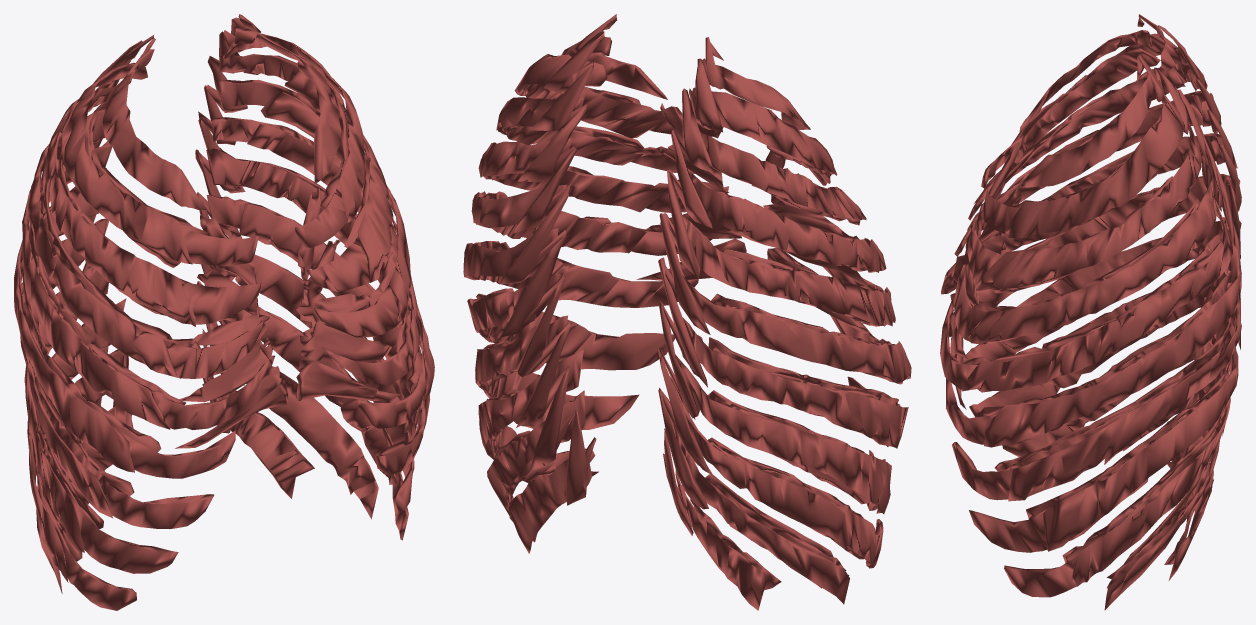
The model's file is thorax.glb.
3 views of the same model, side by side, from view 1: azimuth 30°, elevation 25°; view 2: azimuth 150°, elevation 25°; view 3: azimuth 270°, elevation 25° (orthographic). The views are drawn at different scales.
Parts seen in each view (by area): view 1: FMA9756, FMA9757, FMA9758, FMA9762, FMA9761, FMA74076, FMA74078, FMA74075; view 2: FMA9756, FMA9758, FMA74076, FMA9757, FMA74075, FMA9762, FMA9761, FMA74078, FMA74077; view 3: FMA9756, FMA9758, FMA9757, FMA74076, FMA74075, FMA9762, FMA9761, FMA74078.
Part boxes in pixels (x1,y1,x2,y2): FMA9756: (14, 28, 434, 593); FMA9757: (19, 71, 426, 610); FMA9758: (22, 61, 422, 561); FMA9762: (296, 186, 400, 401); FMA9761: (175, 215, 288, 448); FMA74076: (195, 14, 260, 433); FMA74078: (195, 16, 257, 430); FMA74075: (58, 35, 153, 407); FMA9756: (463, 37, 911, 610); FMA9758: (474, 84, 902, 588); FMA74076: (501, 14, 616, 505); FMA9757: (482, 84, 900, 590); FMA74075: (658, 37, 726, 535); FMA9762: (636, 103, 746, 280); FMA9761: (763, 151, 874, 338); FMA74078: (516, 17, 616, 471); FMA74077: (658, 42, 723, 526); FMA9756: (962, 30, 1241, 610); FMA9758: (963, 49, 1231, 579); FMA9757: (940, 48, 1236, 597); FMA74076: (1137, 55, 1241, 470); FMA74075: (1138, 14, 1241, 391); FMA9762: (950, 189, 1021, 409); FMA9761: (950, 136, 1022, 327); FMA74078: (1137, 57, 1238, 435).
Bounding box in the file's own units: 0.2724 × 0.3731 × 0.2031.
